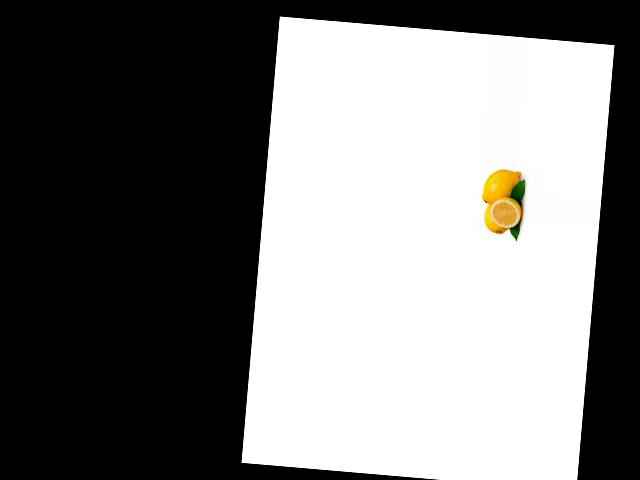lemon: (489, 195, 526, 228)
